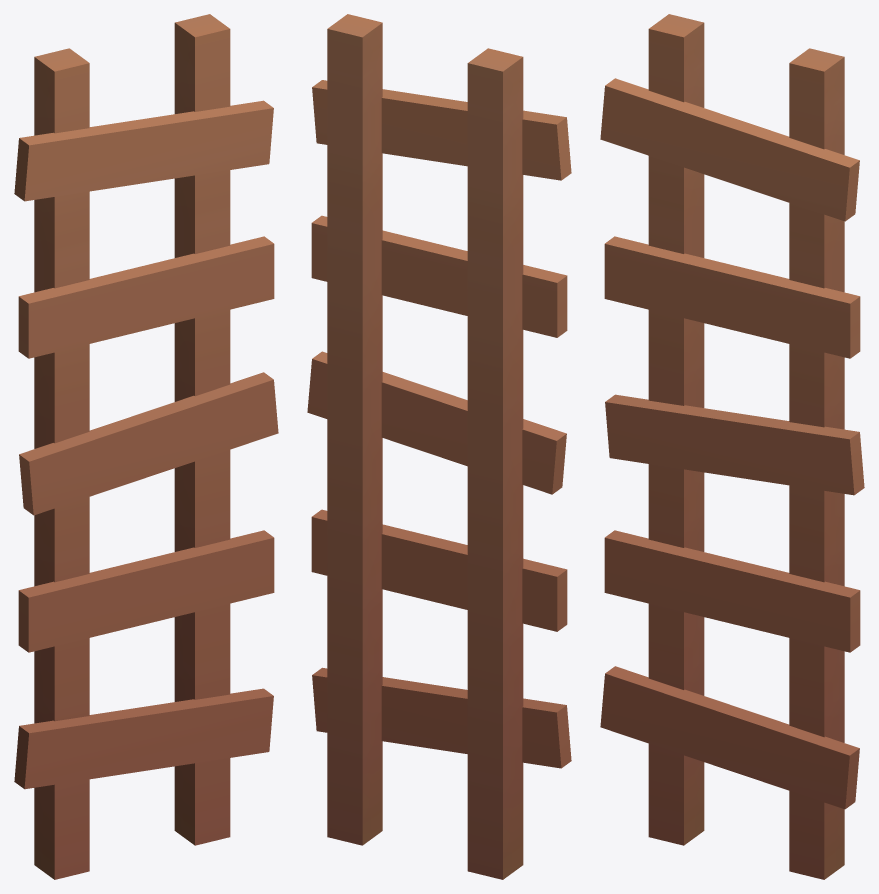
Rendered from kay-escada-mao.gltf.
3 views of the same model, side by side, from view 1: azimuth 30°, elevation 25°; view 2: azimuth 150°, elevation 25°; view 3: azimuth 330°, elevation 25° (orthographic).
Visible parts, largest first — view 1: ladder; view 2: ladder; view 3: ladder.
Part boxes in pixels (left/top/right/bottom): ladder: left=14, top=14, right=278, bottom=879; ladder: left=307, top=14, right=571, bottom=879; ladder: left=600, top=14, right=864, bottom=879.
Bounding box in the file's own units: 1.27 × 3.85 × 0.2538.
Materials: 1 (1 with a texture image).
